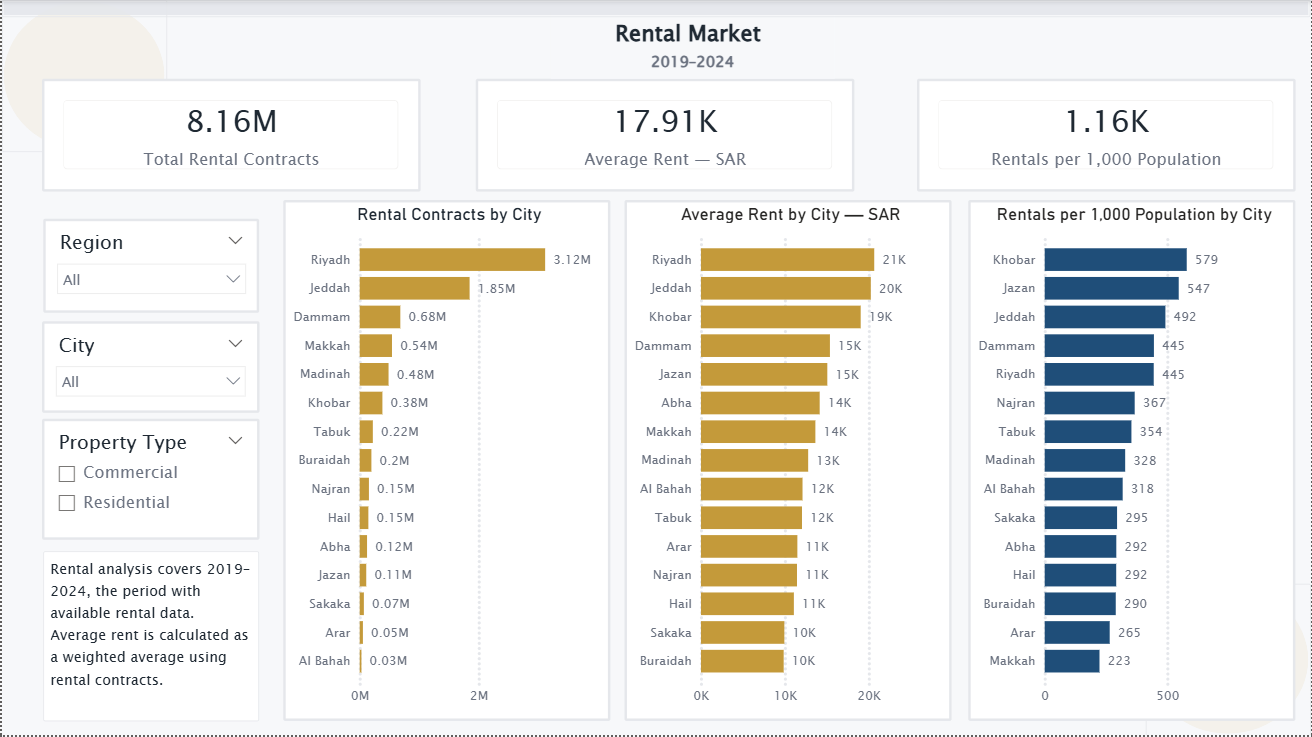

Layout of this report page (visuals, bound fields, positions):
{"tool":"powerbi","page":{"name":"Rental Market — 2019–2024","canvas":[1280,720],"ordinal":2},"visuals":[{"type":"shape","box":[1118.6,570.8,161.4,149.2],"z":0},{"type":"shape","box":[0,0,161.4,149.2],"z":1000},{"type":"cardVisual","fields":{"Data":["fact_real_estate_quarterly.Rental Contracts 2019-2024"]},"box":[39.1,77,370.5,110.1],"z":2000},{"type":"cardVisual","fields":{"Data":["fact_real_estate_quarterly.Weighted Average Rent 2019-2024"]},"box":[463.5,77,370.5,110.1],"z":3000},{"type":"cardVisual","fields":{"Data":["fact_real_estate_quarterly.Rentals per 1,000 Pop 2019-2024"]},"box":[895.1,77,370.5,110.1],"z":4000},{"type":"clusteredBarChart","fields":{"Category":["dim_city.city"],"Y":["fact_real_estate_quarterly.Rental Contracts 2019-2024"]},"box":[275.1,195.7,320.4,509.9],"z":5000},{"type":"clusteredBarChart","title":"Average Rent by City — SAR","fields":{"Category":["dim_city.city"],"Y":["fact_real_estate_quarterly.Weighted Average Rent 2019-2024"]},"box":[609,195.7,320.4,509.9],"z":6000},{"type":"clusteredBarChart","title":"Rentals per 1,000 Population by City","fields":{"Category":["dim_city.city"],"Y":["fact_real_estate_quarterly.Rentals per 1,000 Pop 2019-2024"]},"box":[945.2,195.7,320.4,509.9],"z":7000},{"type":"textbox","box":[40.4,539.3,211.6,166.3],"z":8000},{"type":"slicer","fields":{"Values":["dim_city.region_en"]},"box":[40.4,214,211.6,91.7],"z":9000},{"type":"slicer","fields":{"Values":["dim_city.city"]},"box":[39.1,314.3,212.8,89.3],"z":10000},{"type":"slicer","fields":{"Values":["dim_property_type.property_type"]},"box":[39.1,409.6,212.8,118.6],"z":11000},{"type":"textbox","box":[536.8,12.2,277.6,64.8],"z":12000},{"type":"shape","box":[0,0,1280.3,17.1],"z":13000}]}

Visuals, with their boxes in screenshot pixels (x1, y1, x2, y2), scaled from the page's 1280x720 canvas onto the 1312x737 screenshot:
shape: rect(1147, 584, 1311, 736)
shape: rect(0, 0, 165, 153)
cardVisual - fact_real_estate_quarterly.Rental Contracts 2019-2024: rect(40, 79, 420, 192)
cardVisual - fact_real_estate_quarterly.Weighted Average Rent 2019-2024: rect(475, 79, 855, 192)
cardVisual - fact_real_estate_quarterly.Rentals per 1,000 Pop 2019-2024: rect(917, 79, 1297, 192)
clusteredBarChart - dim_city.city x fact_real_estate_quarterly.Rental Contracts 2019-2024: rect(282, 200, 610, 722)
"Average Rent by City — SAR" clusteredBarChart: rect(624, 200, 953, 722)
"Rentals per 1,000 Population by City" clusteredBarChart: rect(969, 200, 1297, 722)
textbox: rect(41, 552, 258, 722)
slicer - dim_city.region_en: rect(41, 219, 258, 313)
slicer - dim_city.city: rect(40, 322, 258, 413)
slicer - dim_property_type.property_type: rect(40, 419, 258, 541)
textbox: rect(550, 12, 835, 79)
shape: rect(0, 0, 1311, 18)
